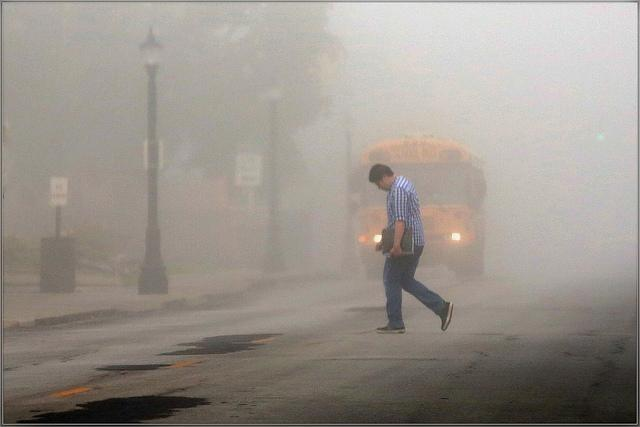bus: (352, 137, 487, 275)
